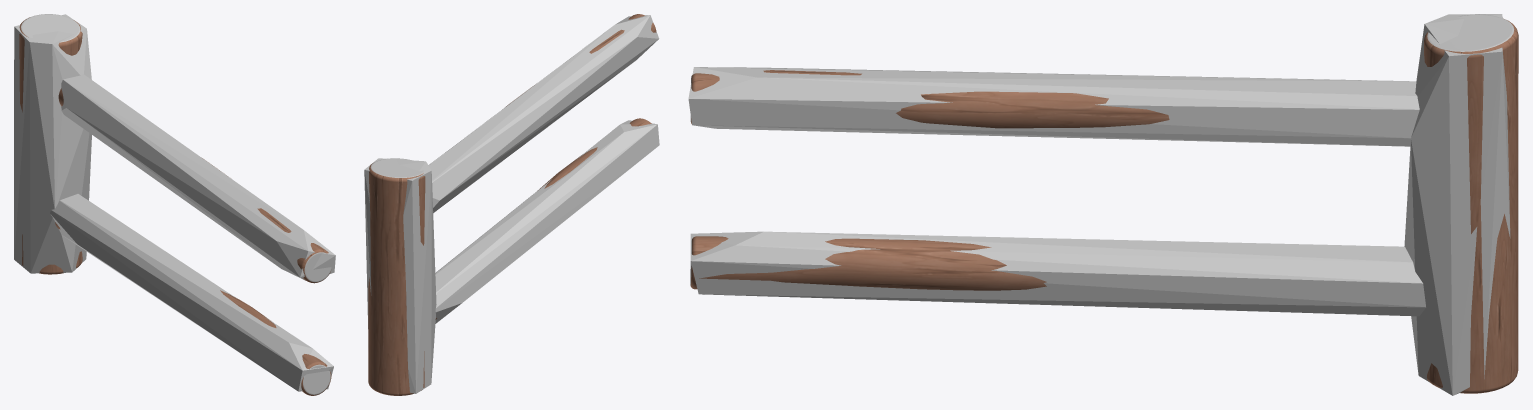
File: SM_WoodenFence_2m_04.fbx
3 renders of one model, left to right at view 1: azimuth 30°, elevation 25°; view 2: azimuth 150°, elevation 25°; view 3: azimuth 270°, elevation 25°, orthographic. The views are drawn at different scales.
Visible parts, largest first — view 1: SM_WoodenFence_2m_04_ConvexHulls, SM_WoodenFence_2m_04; view 2: SM_WoodenFence_2m_04_ConvexHulls, SM_WoodenFence_2m_04; view 3: SM_WoodenFence_2m_04_ConvexHulls, SM_WoodenFence_2m_04.
Boxes of the visible parts, x1,y1,x2,y2 form: SM_WoodenFence_2m_04_ConvexHulls: (14, 14, 335, 391); SM_WoodenFence_2m_04: (19, 14, 331, 395); SM_WoodenFence_2m_04_ConvexHulls: (364, 15, 659, 393); SM_WoodenFence_2m_04: (368, 14, 656, 395); SM_WoodenFence_2m_04_ConvexHulls: (688, 14, 1510, 395); SM_WoodenFence_2m_04: (690, 14, 1518, 393).
Size of the model in its own units: 25.19 by 213 by 97.87.
Materials: 2 (1 with a texture image).
